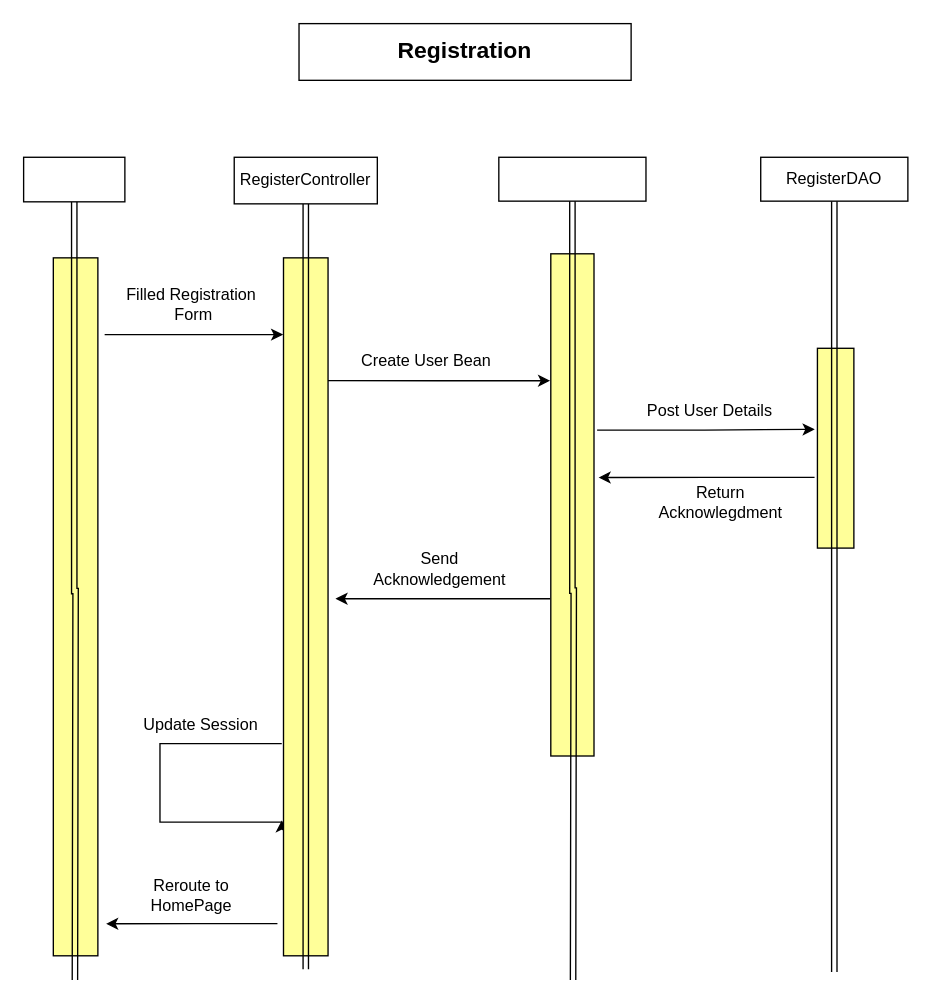
Image size: 932x1004. Some labels were removed from this diagram. The shapes that lost their labels are listed below. From the top down, each one's centre as x and y in pixels, then its label:
At (73,179): "Register.jsp".
At (571,178): "RegisterService".
